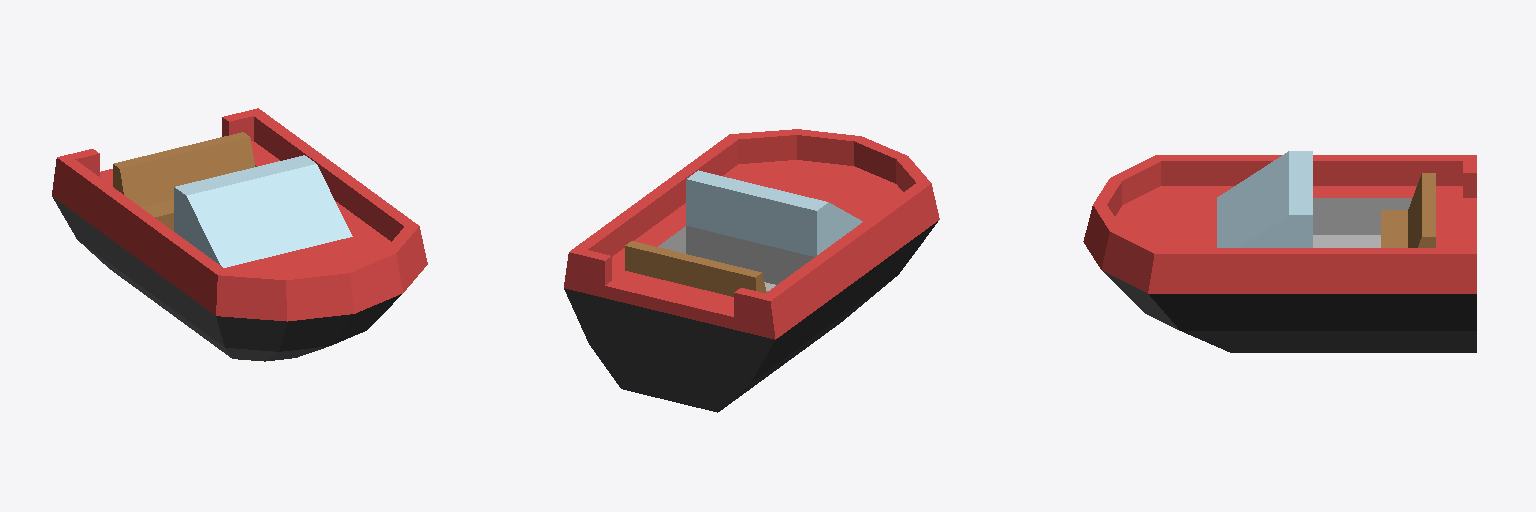
The model's file is watercraftPack_015.obj.
3 views of the same model, side by side, from view 1: azimuth 30°, elevation 25°; view 2: azimuth 150°, elevation 25°; view 3: azimuth 270°, elevation 25° (orthographic).
Visible parts, largest first — view 1: Mesh1 Group1 Model; view 2: Mesh1 Group1 Model; view 3: Mesh1 Group1 Model.
Boxes of the visible parts, <box> form: Mesh1 Group1 Model: <box>52,108,427,361</box>; Mesh1 Group1 Model: <box>564,129,939,412</box>; Mesh1 Group1 Model: <box>1083,151,1476,352</box>.
Bounding box in the file's own units: 1.78 × 1.17 × 2.87.